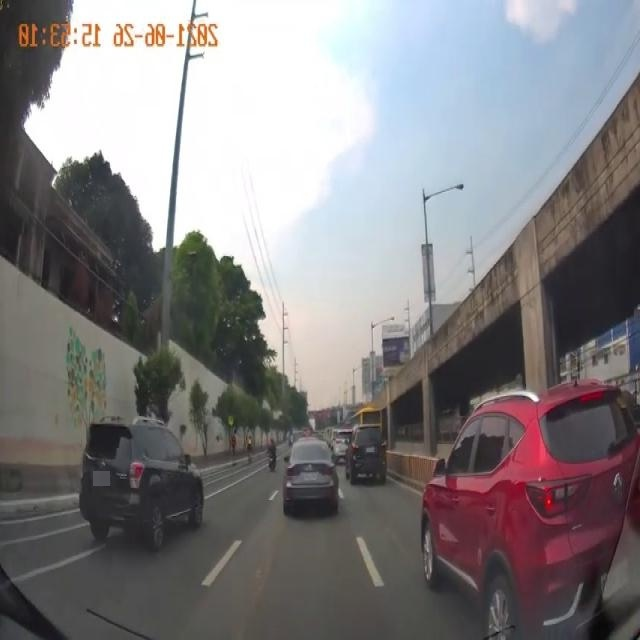car: (420, 382, 633, 614), (85, 415, 207, 558), (281, 437, 340, 515), (344, 426, 386, 487)
motorcycle: (266, 438, 277, 476)
